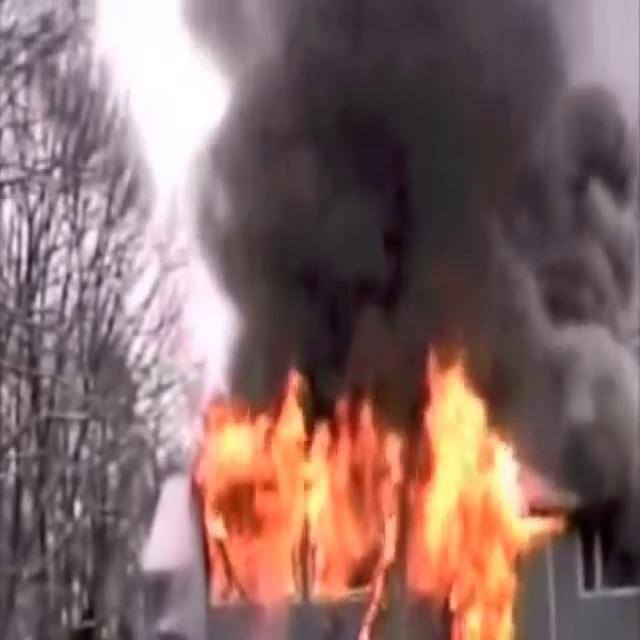Fire: (191, 346, 548, 634)
Smoke: (149, 0, 640, 436)
